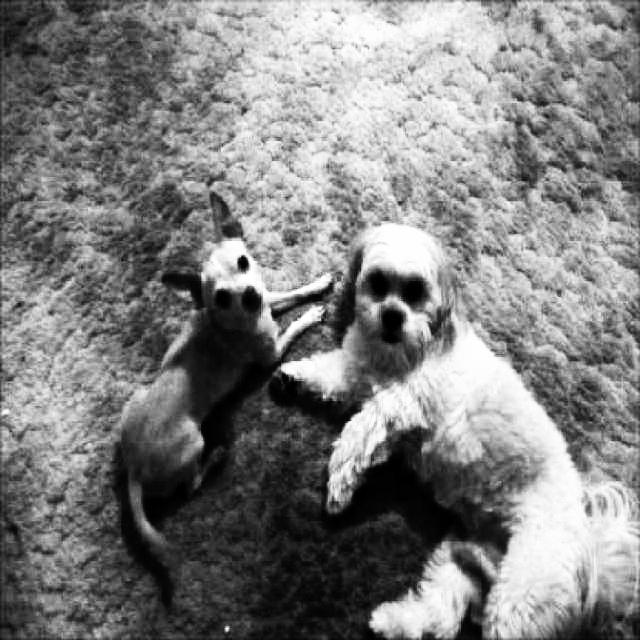Dog: (275, 215, 640, 640), (115, 189, 340, 580)
